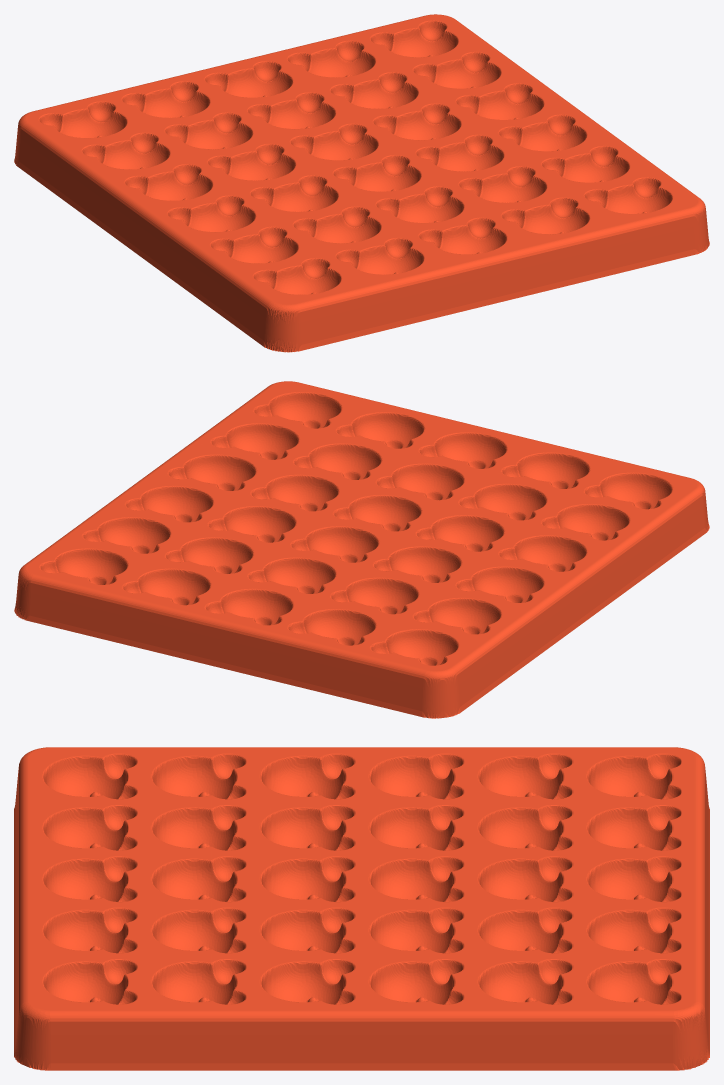
File: mold.glb
3 views of the same model, one above another, from view 1: azimuth 30°, elevation 25°; view 2: azimuth 150°, elevation 25°; view 3: azimuth 270°, elevation 25° (orthographic). The views are drawn at different scales.
Parts seen in each view (by area): view 1: geometry_0; view 2: geometry_0; view 3: geometry_0.
Part boxes in pixels (x1,y1,x2,y2): geometry_0: (14, 14, 709, 352); geometry_0: (14, 381, 709, 718); geometry_0: (14, 747, 709, 1070).
Size of the model in its own units: 0.1578 by 0.0145 by 0.1689.
